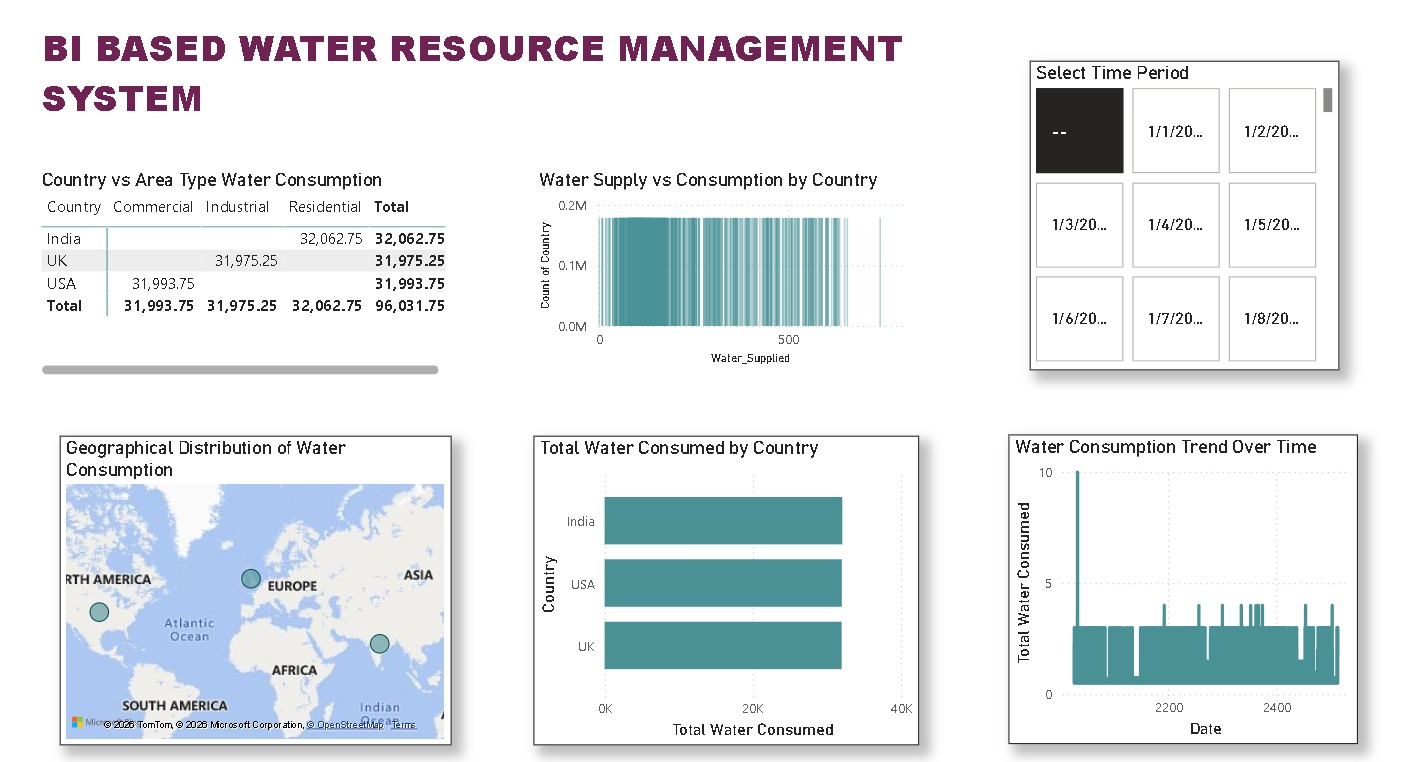

The page's visual inventory and layout, read from the dashboard file:
{"tool":"powerbi","page":{"name":"Global Water Insights","canvas":[1280,720],"ordinal":2},"visuals":[{"type":"map","title":"Geographical Distribution of Water Consumption","fields":{"Category":["cleaned_water_dataset.Country"],"Size":["Sum(cleaned_water_dataset.Water_Consumed)"]},"box":[57.6,419.9,354,279.9],"z":0},{"type":"lineChart","title":"Water Consumption Trend Over Time","fields":{"Category":["cleaned_water_dataset.Date"],"Y":["Date_Table.Total Water Consumed"]},"box":[916.3,418.6,316.3,280.2],"z":1000},{"type":"clusteredBarChart","title":"Total Water Consumed by Country","fields":{"Category":["cleaned_water_dataset.Country"],"Y":["Date_Table.Total Water Consumed"]},"box":[486,419.8,348.8,280.2],"z":2000},{"type":"advancedSlicerVisual","title":"Select Time Period","fields":{"Values":["Date_Table.Date"]},"box":[934.9,80.2,280.2,280.2],"z":3000},{"type":"textbox","box":[36,40.7,857,151.2],"z":4000},{"type":"clusteredColumnChart","title":"Water Supply vs Consumption by Country","fields":{"Category":["cleaned_dataset_1.Water_Supplied"],"Y":["CountNonNull(cleaned_water_dataset.Country)"]},"box":[486,177.9,348.8,182.6],"z":5000},{"type":"pivotTable","title":"Country vs Area Type Water Consumption","fields":{"Rows":["cleaned_water_dataset.Country"],"Columns":["cleaned_water_dataset.Area_Type"],"Values":["Sum(cleaned_water_dataset.Water_Consumed)"]},"box":[36,177.9,375.6,191.9],"z":5001}]}

Visuals, with their boxes on the page's 1280x720 design canvas (x1, y1, x2, y2). These are canvas units, not pixel positions in the 1406x762 screenshot, which may show the page scaled, cropped or inside an application window:
"Geographical Distribution of Water Consumption" map: x1=58 y1=420 x2=412 y2=700
"Water Consumption Trend Over Time" lineChart: x1=916 y1=419 x2=1233 y2=699
"Total Water Consumed by Country" clusteredBarChart: x1=486 y1=420 x2=835 y2=700
"Select Time Period" advancedSlicerVisual: x1=935 y1=80 x2=1215 y2=360
textbox: x1=36 y1=41 x2=893 y2=192
"Water Supply vs Consumption by Country" clusteredColumnChart: x1=486 y1=178 x2=835 y2=360
"Country vs Area Type Water Consumption" pivotTable: x1=36 y1=178 x2=412 y2=370
